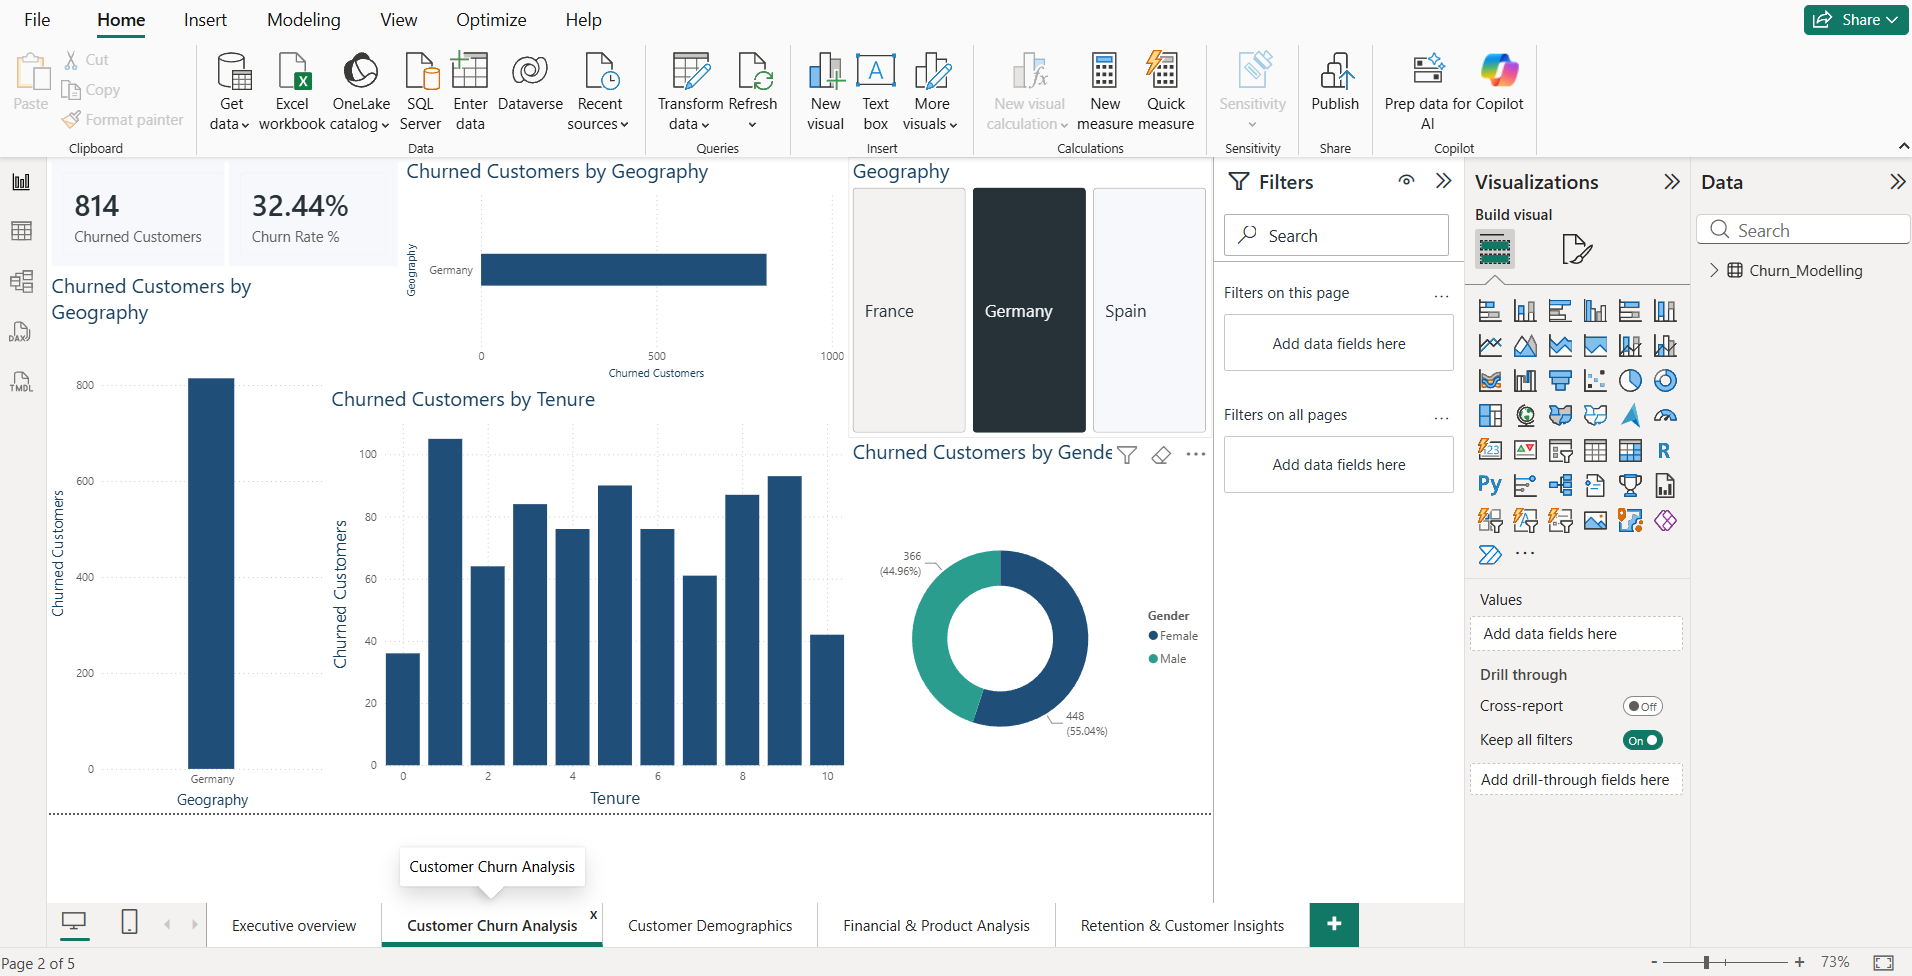

The page's visual inventory and layout, read from the dashboard file:
{"tool":"powerbi","page":{"name":"Customer Churn Analysis","canvas":[1280,720],"ordinal":1},"visuals":[{"type":"cardVisual","fields":{"Data":["Churn_Modelling.Churned Customers"]},"box":[0,0,212.9,125.7],"z":0},{"type":"cardVisual","fields":{"Data":["Churn_Modelling.Churn Rate %"]},"box":[194.3,0,195.7,125.7],"z":1000},{"type":"clusteredColumnChart","fields":{"Category":["Churn_Modelling.Geography"],"Y":["Churn_Modelling.Churned Customers"]},"box":[0,125.7,307.1,594.3],"z":2000},{"type":"columnChart","fields":{"Category":["Churn_Modelling.Tenure"],"Y":["Churn_Modelling.Churned Customers"]},"box":[307.1,250,572.9,470],"z":3000},{"type":"barChart","fields":{"Category":["Churn_Modelling.Geography"],"Y":["Churn_Modelling.Churned Customers"]},"box":[390,0,490,250],"z":4000},{"type":"donutChart","fields":{"Category":["Churn_Modelling.Gender"],"Y":["Churn_Modelling.Churned Customers"]},"box":[880,308.6,400,411.4],"z":5000},{"type":"advancedSlicerVisual","fields":{"Values":["Churn_Modelling.Geography"]},"box":[880,0,398.6,308.6],"z":6000}]}

Visuals, with their boxes on the page's 1280x720 design canvas (x1, y1, x2, y2). These are canvas units, not pixel positions in the 1912x976 screenshot, which may show the page scaled, cropped or inside an application window:
cardVisual - Churn_Modelling.Churned Customers: [0, 0, 213, 126]
cardVisual - Churn_Modelling.Churn Rate %: [194, 0, 390, 126]
clusteredColumnChart - Churn_Modelling.Geography x Churn_Modelling.Churned Customers: [0, 126, 307, 720]
columnChart - Churn_Modelling.Tenure x Churn_Modelling.Churned Customers: [307, 250, 880, 720]
barChart - Churn_Modelling.Geography x Churn_Modelling.Churned Customers: [390, 0, 880, 250]
donutChart - Churn_Modelling.Gender x Churn_Modelling.Churned Customers: [880, 309, 1280, 720]
advancedSlicerVisual - Churn_Modelling.Geography: [880, 0, 1279, 309]
